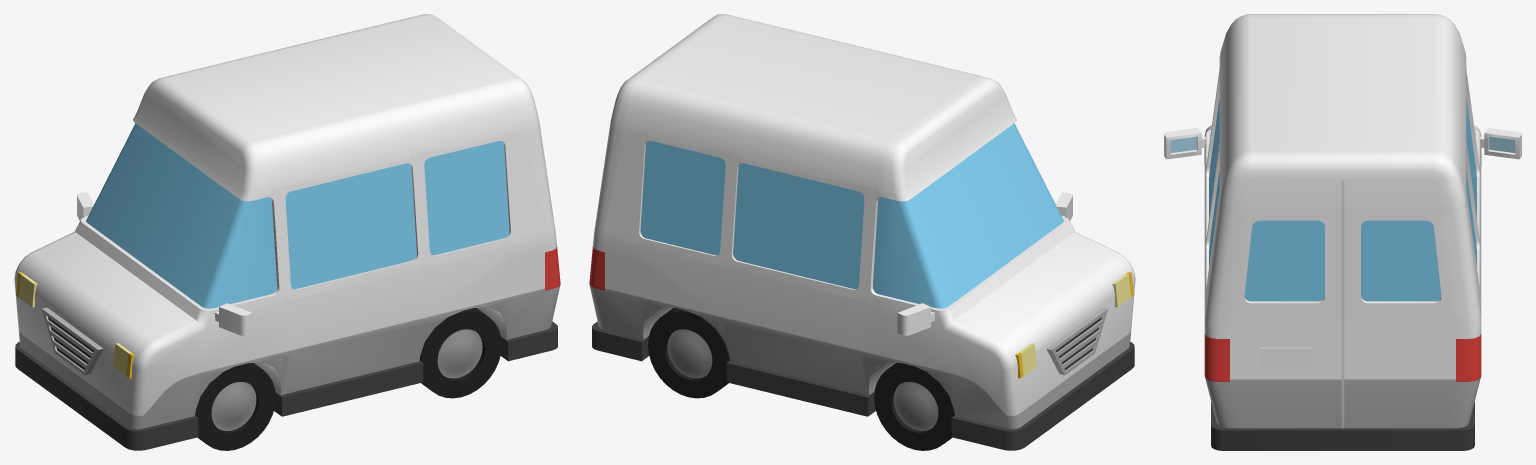
Rendered from minibus.fbx.
3 views of the same model, side by side, from view 1: azimuth 30°, elevation 25°; view 2: azimuth 150°, elevation 25°; view 3: azimuth 270°, elevation 25° (orthographic). The views are drawn at different scales.
Parts seen in each view (by area): view 1: Cube.624; view 2: Cube.624; view 3: Cube.624.
Part boxes in pixels (x1=…): Cube.624: x1=14, y1=14, x2=560, y2=450; Cube.624: x1=589, y1=14, x2=1135, y2=450; Cube.624: x1=1164, y1=14, x2=1521, y2=450.
Size of the model in its own units: 204 by 132 by 137.
1 material, 1 textured.
